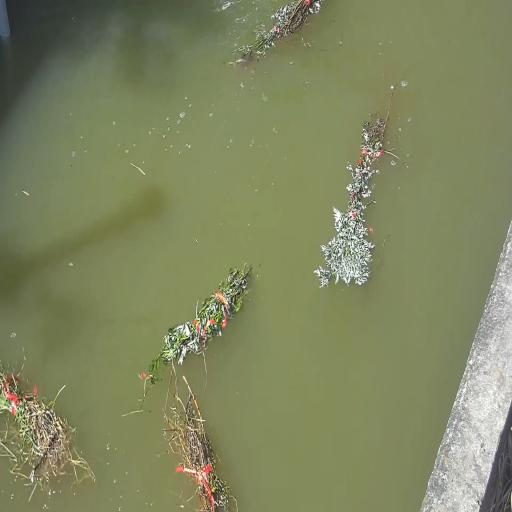twig: (314, 84, 398, 289), (0, 340, 96, 512), (161, 340, 241, 512), (148, 260, 253, 376), (230, 0, 329, 62)
